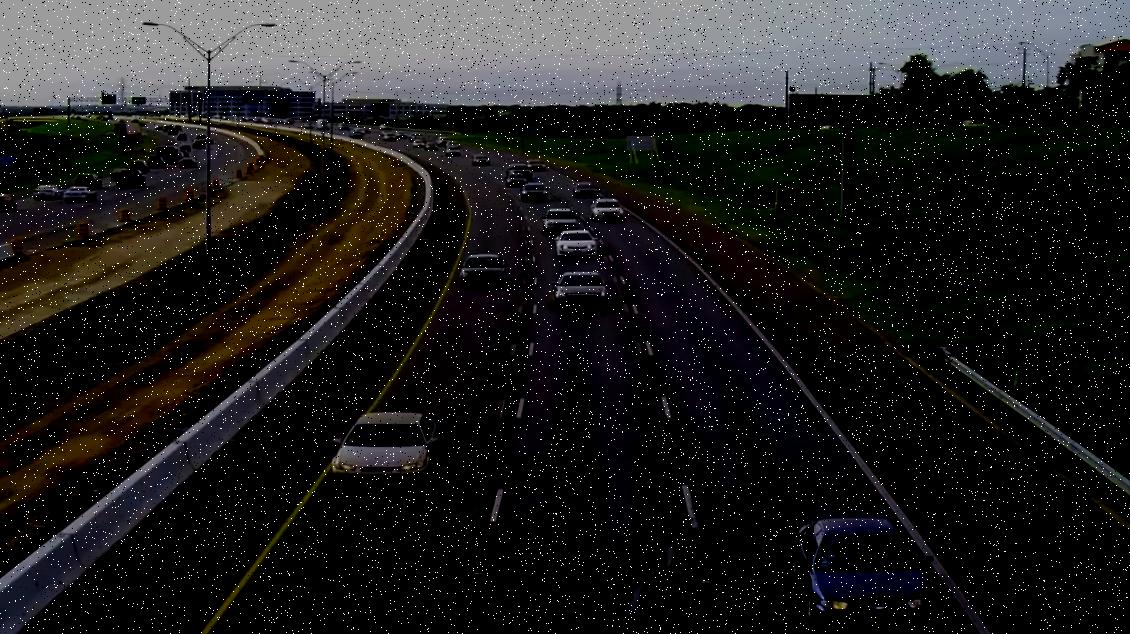car: (793, 514, 933, 629), (327, 406, 439, 490), (552, 271, 613, 311), (458, 252, 506, 285), (556, 231, 602, 258), (542, 207, 578, 233), (593, 200, 627, 222), (110, 170, 144, 189), (63, 189, 100, 205), (522, 185, 549, 203), (35, 188, 63, 202), (575, 186, 601, 200), (0, 195, 17, 213), (506, 173, 525, 186), (443, 145, 465, 156), (529, 158, 547, 170), (472, 158, 489, 167)
